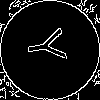Y: (25, 25, 76, 66)
